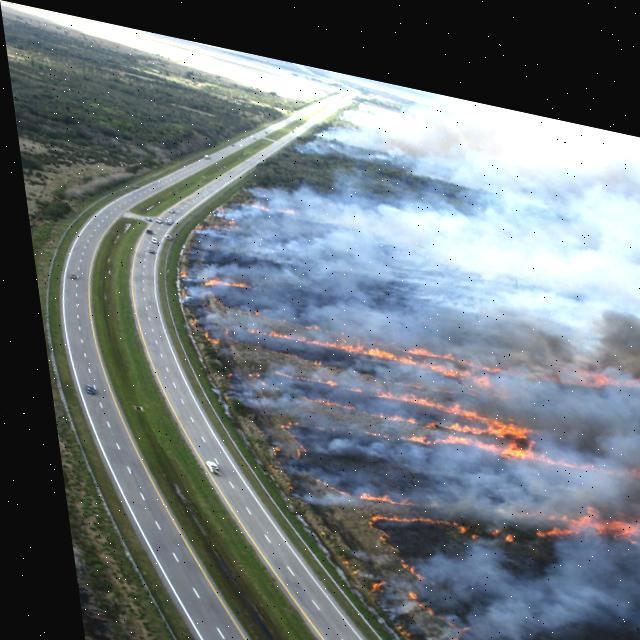Fire: (346, 398, 596, 458), (232, 311, 479, 371), (262, 356, 522, 412), (346, 488, 473, 574), (296, 376, 520, 424), (520, 461, 639, 541), (541, 334, 639, 375), (304, 462, 402, 496), (396, 327, 499, 357), (391, 576, 444, 611), (269, 406, 300, 451), (192, 194, 232, 228), (191, 264, 247, 285), (617, 431, 639, 481), (244, 186, 288, 206), (480, 508, 506, 526), (351, 564, 374, 584), (190, 321, 210, 337)
